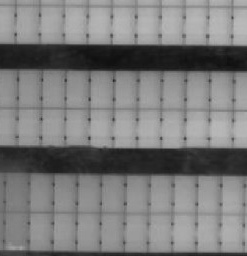solar: (12, 3, 42, 45), (36, 3, 66, 45), (60, 3, 90, 45), (84, 3, 114, 45), (108, 3, 138, 45), (132, 3, 162, 45), (158, 3, 188, 45), (181, 3, 211, 45), (204, 3, 234, 45), (15, 67, 45, 109), (38, 67, 68, 109), (62, 67, 92, 109), (86, 67, 116, 109), (110, 68, 140, 110), (135, 68, 165, 110), (158, 70, 188, 112), (183, 70, 213, 112), (206, 70, 236, 112), (205, 106, 235, 148), (182, 107, 212, 149), (159, 107, 189, 149), (134, 107, 164, 149), (110, 107, 140, 149), (86, 107, 116, 149), (61, 107, 91, 149), (37, 107, 67, 149), (14, 107, 44, 149), (2, 170, 32, 212), (26, 171, 56, 213), (50, 171, 80, 213), (73, 173, 103, 215), (98, 173, 128, 215), (123, 173, 153, 215), (146, 173, 176, 215), (169, 174, 199, 216), (194, 174, 224, 216), (217, 174, 247, 216), (1, 209, 31, 251), (25, 209, 55, 251), (51, 209, 81, 251), (74, 209, 104, 251), (97, 209, 127, 251), (122, 209, 152, 251), (145, 209, 175, 251), (169, 210, 199, 252), (195, 210, 225, 252), (217, 211, 247, 253)
